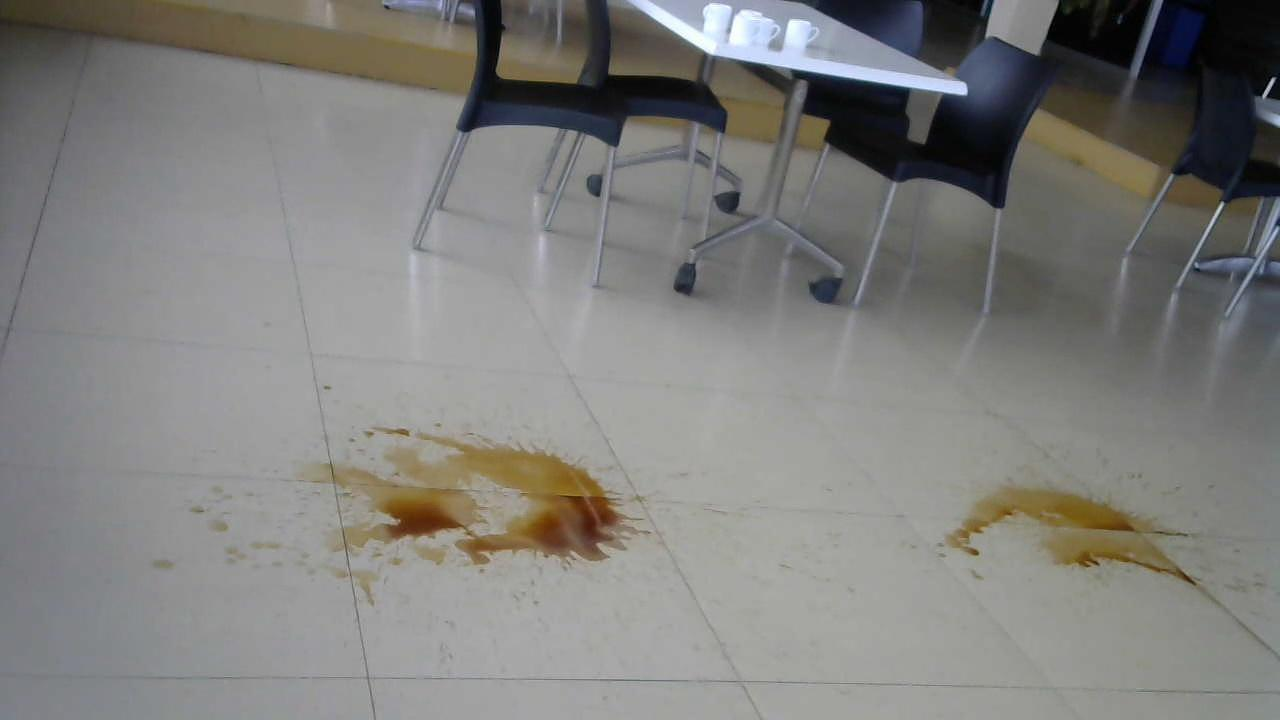dirty_floor: (285, 407, 659, 614), (940, 473, 1207, 597)
